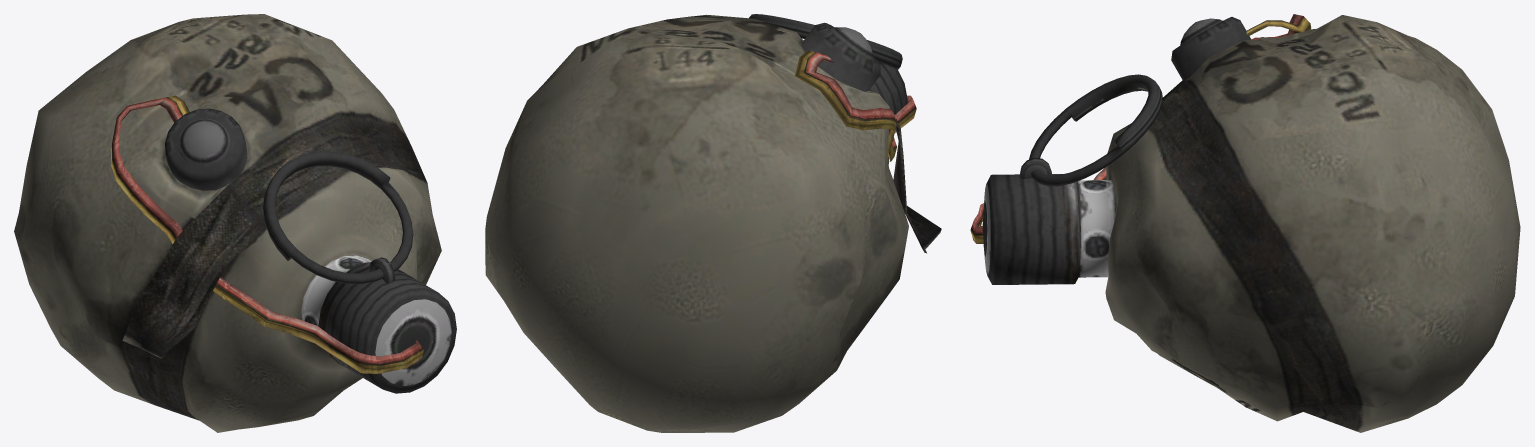
File: viewmodel_semtex_grenade_LOD0.obj
3 views of the same model, side by side, from view 1: azimuth 30°, elevation 25°; view 2: azimuth 150°, elevation 25°; view 3: azimuth 270°, elevation 25° (orthographic). The views are drawn at different scales.
Parts seen in each view (by area): view 1: mtl_weapon_semtex_grenade; view 2: mtl_weapon_semtex_grenade; view 3: mtl_weapon_semtex_grenade.
Part boxes in pixels (x1=…): mtl_weapon_semtex_grenade: x1=14, y1=14, x2=456, y2=432; mtl_weapon_semtex_grenade: x1=485, y1=14, x2=941, y2=432; mtl_weapon_semtex_grenade: x1=970, y1=14, x2=1520, y2=432.
Bounding box in the file's own units: 8.4 × 8.25 × 11.12.
1 material, 1 textured.
